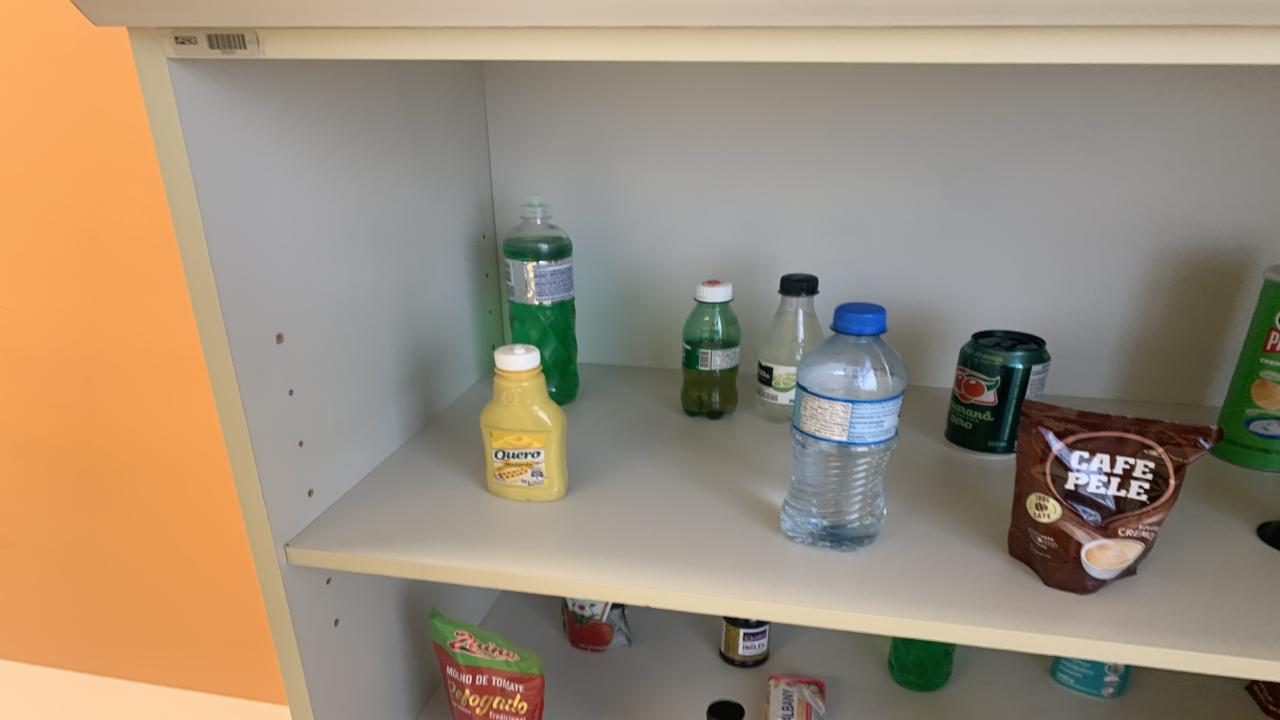Cleaner-Cleanup_Items: (1050, 656, 1130, 698)
Coffee-Pantry_Items: (1008, 399, 1220, 594)
Detergent-Cleanup_Items: (502, 195, 580, 403), (888, 638, 955, 692)
English_Sauce-Pantry_Items: (720, 617, 770, 668), (705, 699, 745, 720)
Guarana-Drinks: (680, 279, 740, 418)
Guarana_Can-Drinks: (945, 330, 1050, 456)
Mustard-Pantry_Items: (480, 345, 568, 501)
Pringles-Snacks: (1212, 264, 1280, 472)
Soap-Cleanup_Items: (765, 675, 825, 720)
Soda-Drinks: (755, 274, 822, 422)
Tomato_Sauce-Pantry_Items: (428, 609, 545, 720), (562, 598, 632, 652), (1245, 681, 1280, 720)
Water_Bottle-Drinks: (780, 302, 908, 551)
